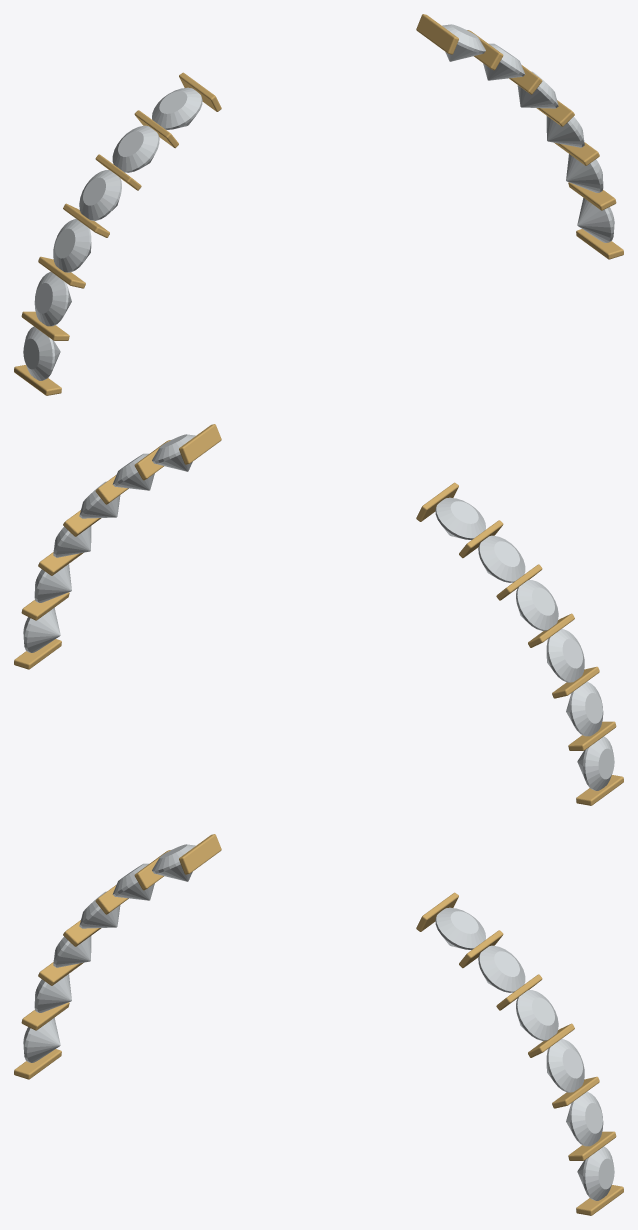
File: accents-bar.glb
3 renders of one model, top to bottom at view 1: azimuth 30°, elevation 25°; view 2: azimuth 150°, elevation 25°; view 3: azimuth 330°, elevation 25°, orthographic.
Visible parts, largest first — view 1: Gem.002, Gem.001, Gem.003, Gem, Gem.004, Gem.005, Gem.011, Gem.010, Gem.009, Setting bar.007, Gem.006, Gem.008 (+5 smaller); view 2: Gem.002, Gem.001, Gem.003, Gem, Gem.004, Gem.005, Gem.011, Gem.010, Gem.009, Setting bar.007, Gem.006, Gem.008 (+5 smaller); view 3: Gem.008, Gem.007, Gem.009, Gem.006, Gem.010, Gem.011, Gem.005, Gem.004, Gem.003, Setting bar.006, Gem, Gem.002 (+5 smaller).
Part boxes in pixels (x1,y1,x2,y2): Gem.002: (79,170,121,220); Gem.001: (112,125,159,172); Gem.003: (53,219,91,272); Gem: (152,87,202,129); Gem.004: (34,271,71,326); Gem.005: (23,326,60,380); Gem.011: (577,198,614,242); Gem.010: (566,154,603,192); Gem.009: (546,116,584,147); Setting bar.007: (416,14,458,54); Gem.006: (442,24,485,61); Gem.008: (517,71,558,108); Gem.002: (516,580,558,630); Gem.001: (478,535,525,582); Gem.003: (546,629,584,682); Gem: (435,497,485,539); Gem.004: (566,681,603,736); Gem.005: (577,736,614,790); Gem.011: (23,608,60,652); Gem.010: (34,564,71,602); Gem.009: (53,526,91,557); Setting bar.007: (179,424,221,464); Gem.006: (152,434,195,471); Gem.008: (79,481,120,518); Gem.008: (516,990,558,1040); Gem.007: (478,945,525,992); Gem.009: (546,1039,584,1092); Gem.006: (435,907,485,949); Gem.010: (566,1091,603,1146); Gem.011: (577,1146,614,1200); Gem.005: (23,1018,60,1062); Gem.004: (34,974,71,1012); Gem.003: (53,936,91,967); Setting bar.006: (179,834,221,874); Gem: (152,844,195,881); Gem.002: (79,891,120,928).
Bounding box in the file's own units: 19.89 × 8.53 × 1.95.
